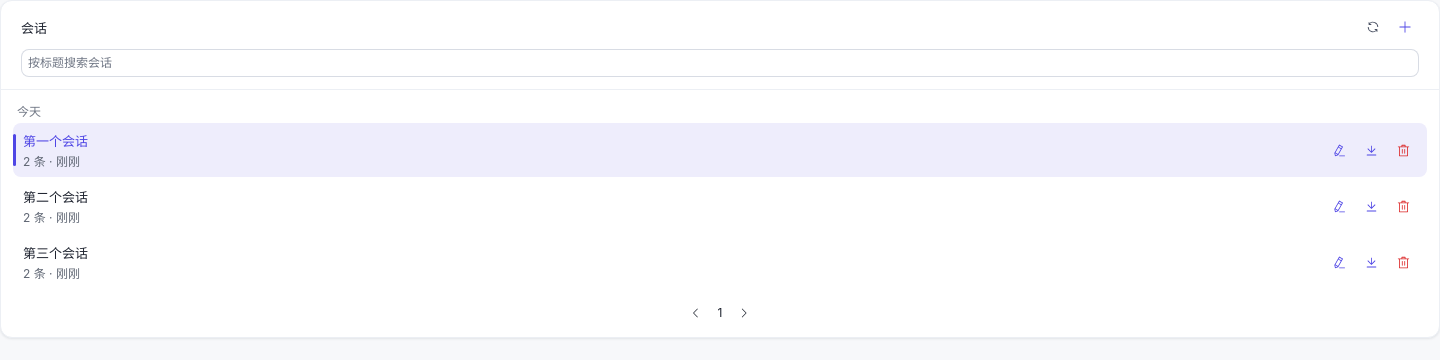
Test: 重命名：保存与取消的边界 › Enter 提交新标题，并退出编辑态
Click the button named "重命名会话：第一个会话": (1339, 150) [1325,136,1353,164]
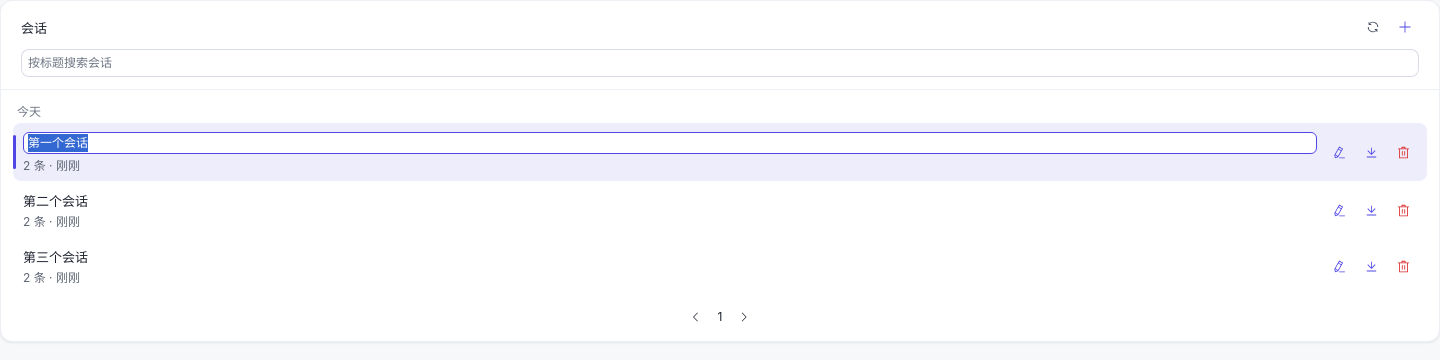
Replace the text in the field with class "chat-sessions__rename" with "  新标题  ": (670, 143) [23,132,1317,154]
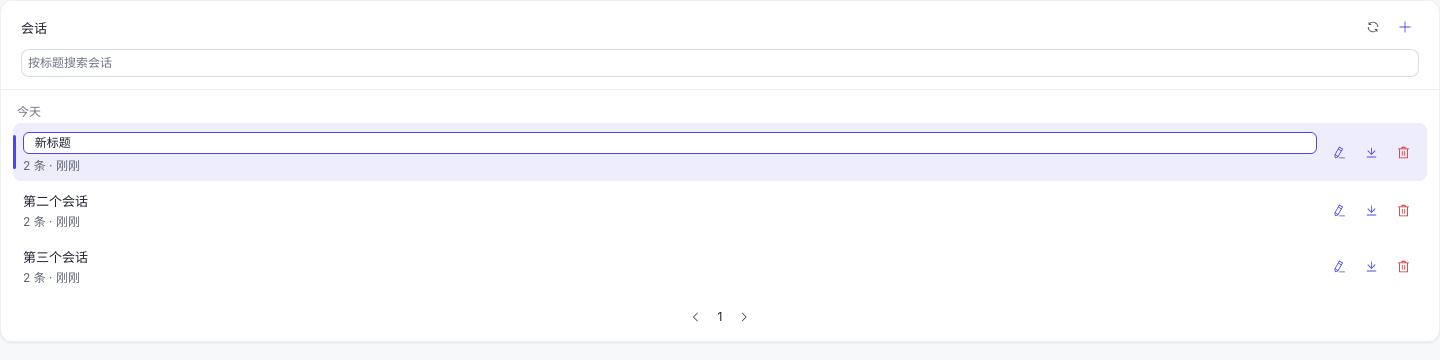
Press Enter in the field with class "chat-sessions__rename", box [23,132,1317,154]
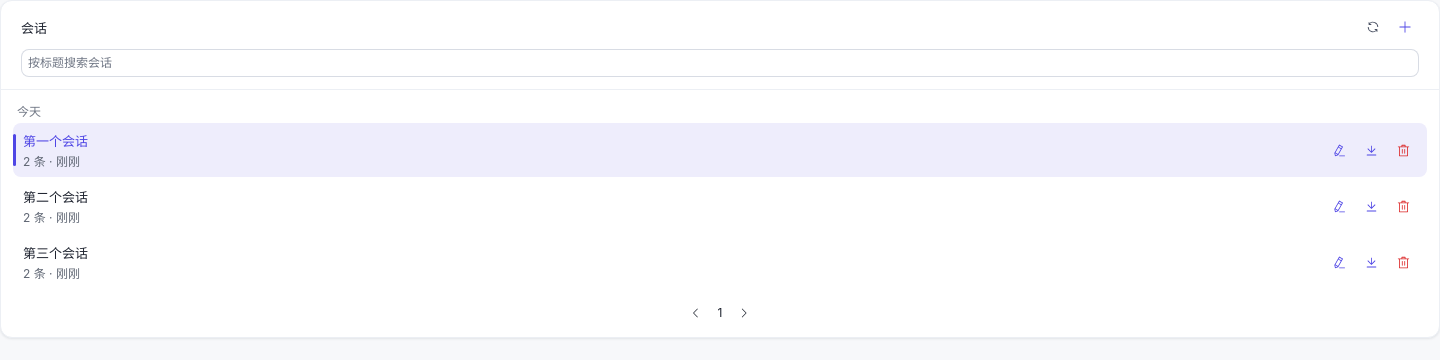
Result: no fields with class "chat-sessions__rename" are shown
